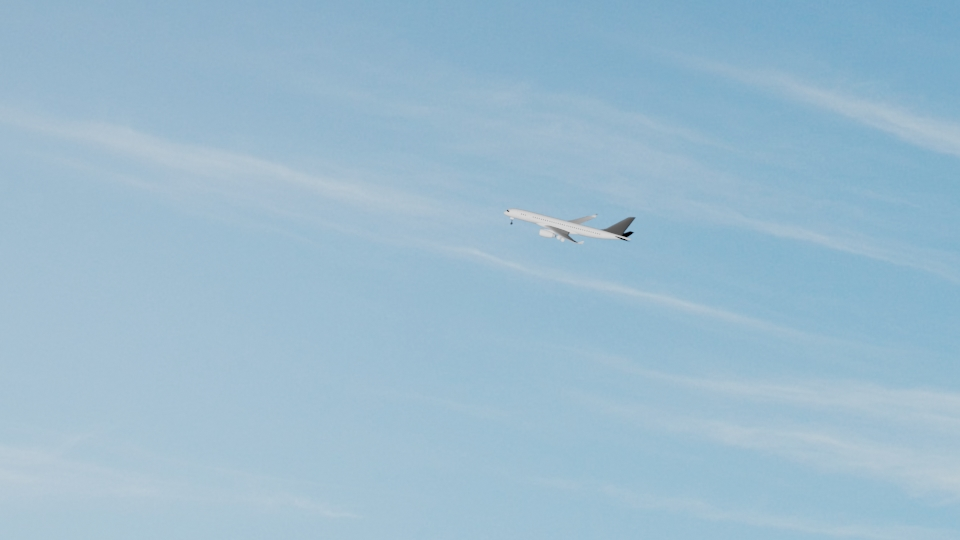plane: (501, 206, 635, 245)
